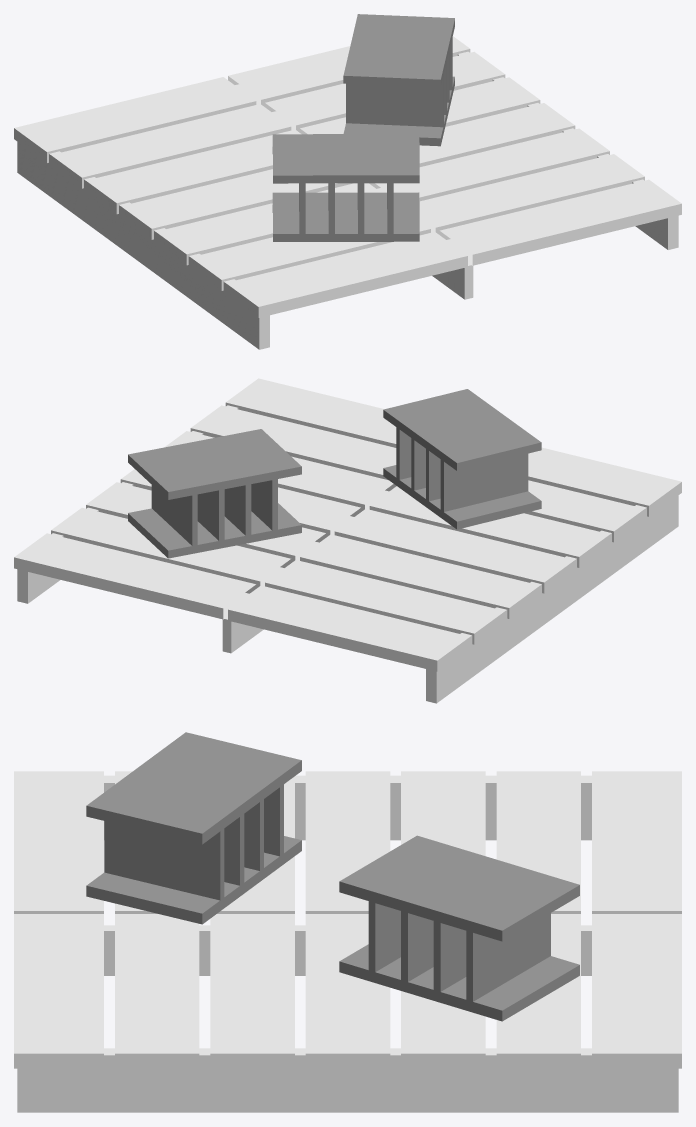
File: WoodenPlank&Break1_3.fbx
3 renders of one model, top to bottom at view 1: azimuth 30°, elevation 25°; view 2: azimuth 150°, elevation 25°; view 3: azimuth 270°, elevation 25°, orthographic. The views are drawn at different scales.
Visible parts, largest first — view 1: Cube; view 2: Cube; view 3: Cube.
Part boxes in pixels (<box>): Cube: <box>14,14,681,349</box>; Cube: <box>14,378,681,703</box>; Cube: <box>14,732,681,1112</box>.
Size of the model in its own units: 200 by 50 by 200.
